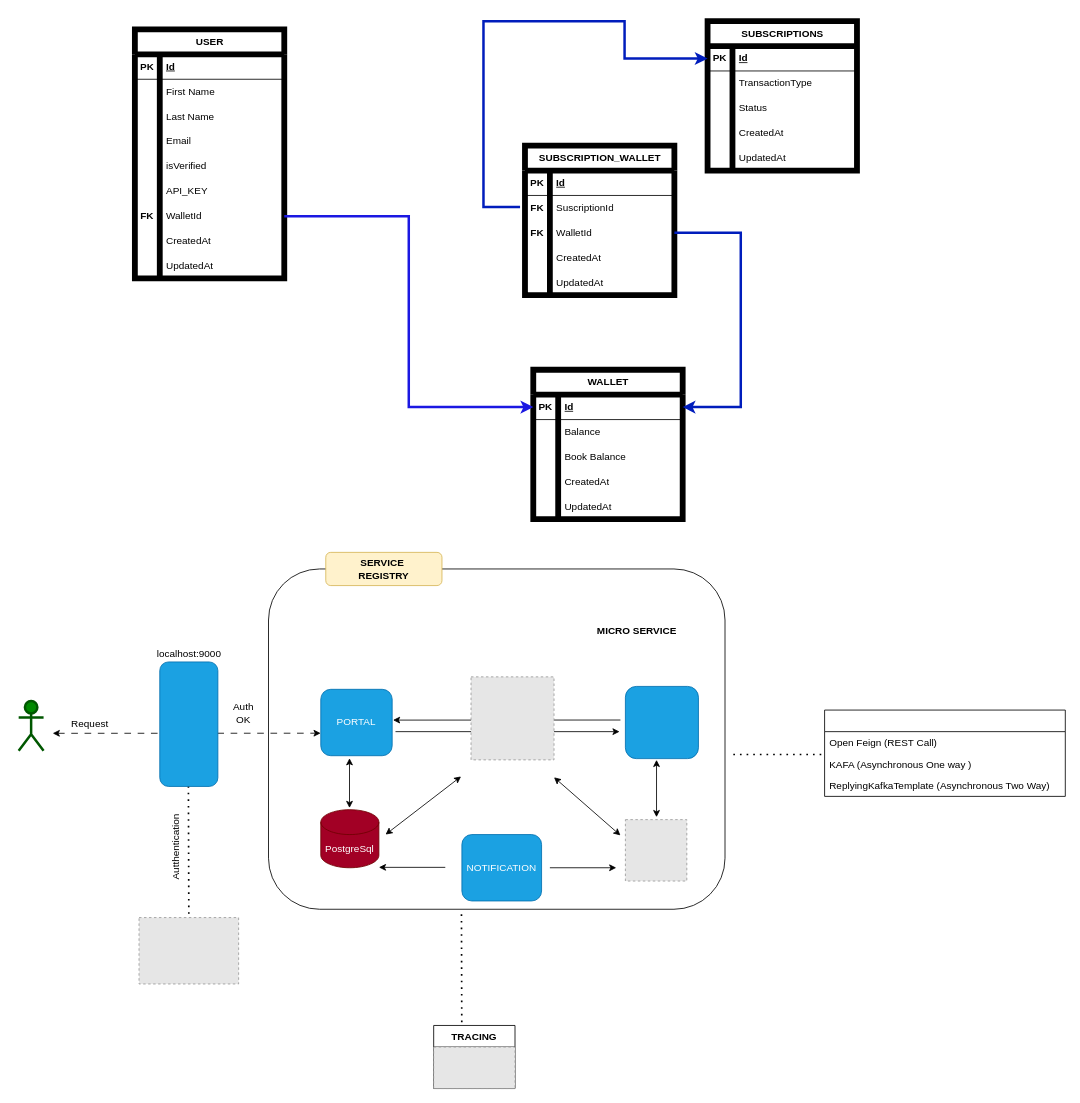
This 1080x1103 diagram has some shape labels left out. Grey dashed boxes stand in for pictures. Each missing label, with the box of its shape:
Api Gateway: (159, 661, 218, 786)
COMMUNICATION: (824, 709, 1065, 796)
USERS: (17, 699, 44, 752)
VAS ENGINE: (625, 686, 698, 759)
